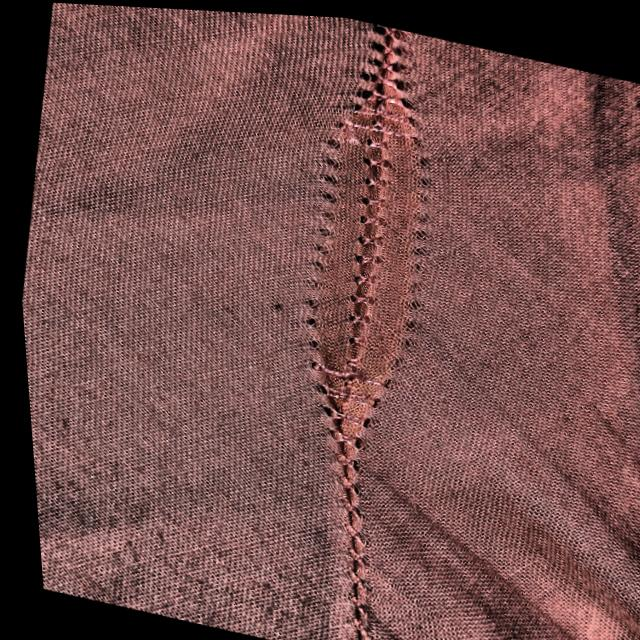seam: (255, 54, 487, 472)
